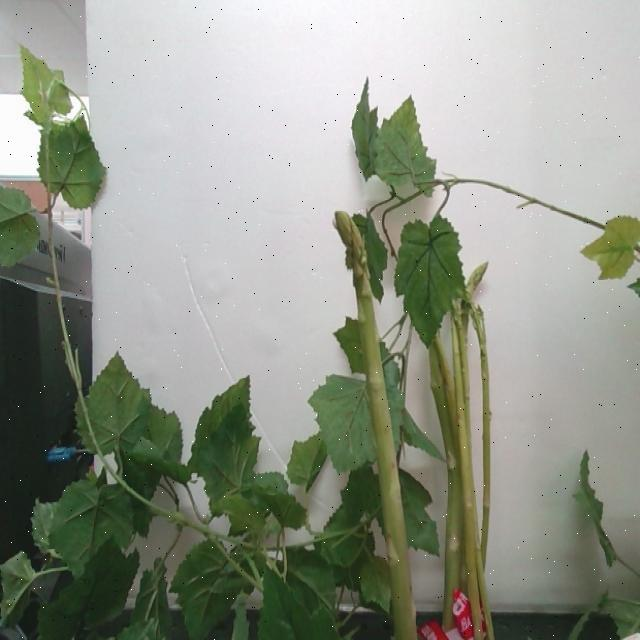aspargus: (327, 206, 417, 640)
